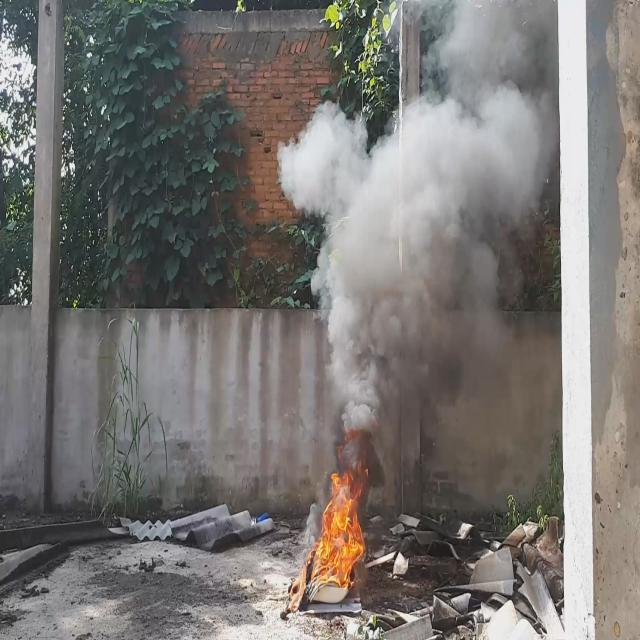Fire: (312, 430, 374, 591)
Smoke: (280, 0, 558, 468)
